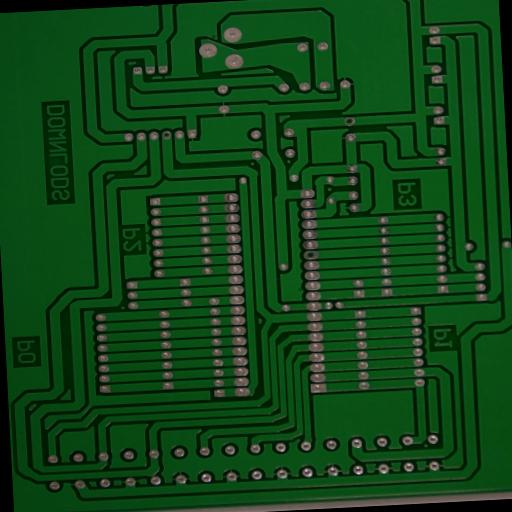missing_hole: (342, 116, 356, 127), (302, 250, 316, 260), (159, 130, 172, 140)
